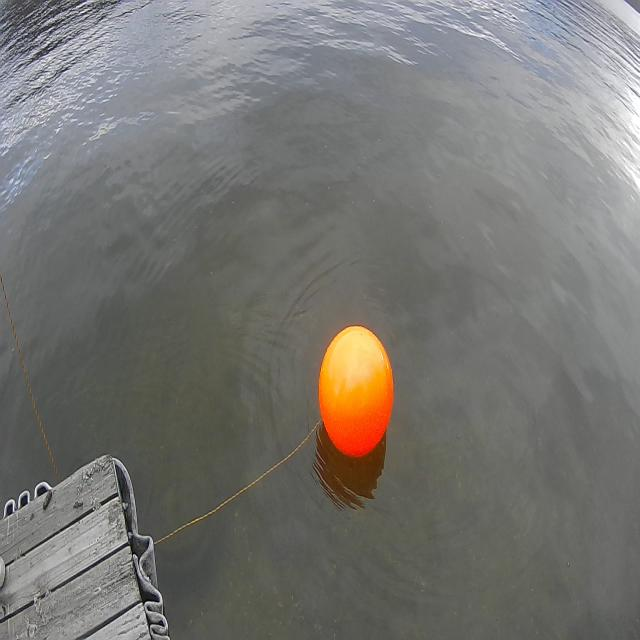Buoy: (319, 324, 395, 455)
